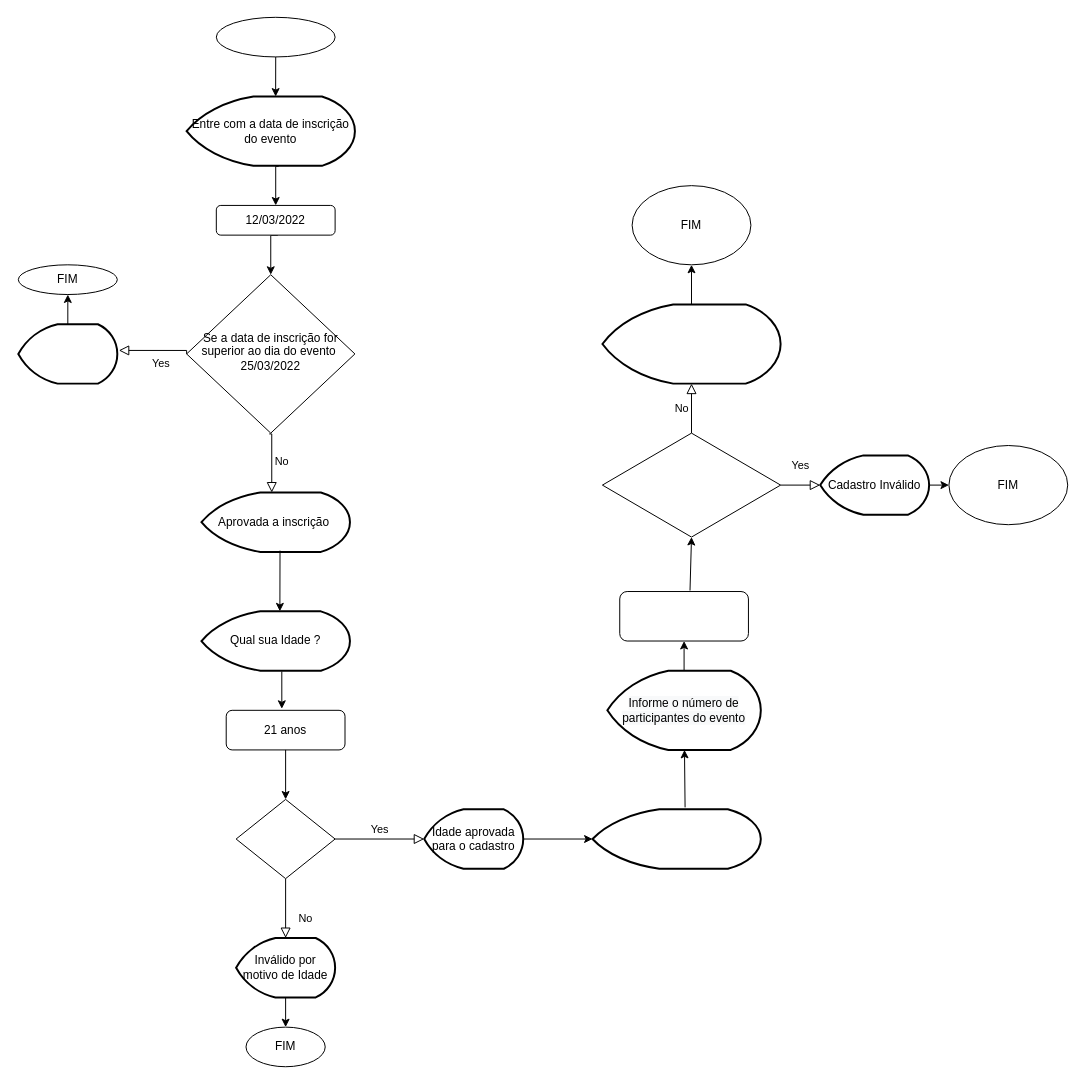
Some shapes in this 1085 by 1084 pixel diagram are drawn without their labels. Each missing label, with the centre of its shape:
"87 Participantes" belongs at point (683, 616).
"Cadastro Aceito" belongs at point (691, 343).
"Capacidade máxima de participantes para o evento 100 pessoas." belongs at point (676, 838).
"Igual ou Superior a 18 anos" belongs at point (285, 838).
"Inicio" belongs at point (275, 36).
"Negada a inscrição" belongs at point (67, 353).
"Numero de participantes superior a 100 indivíduos" belongs at point (691, 484).
